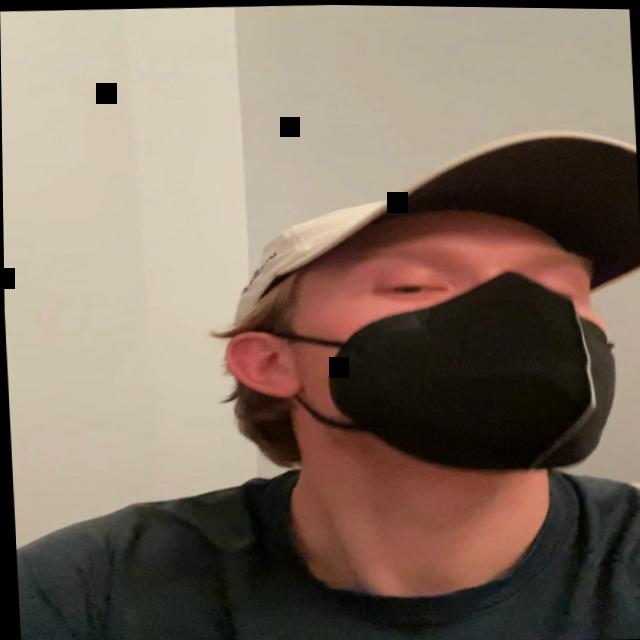Mask: (297, 199, 619, 477)
